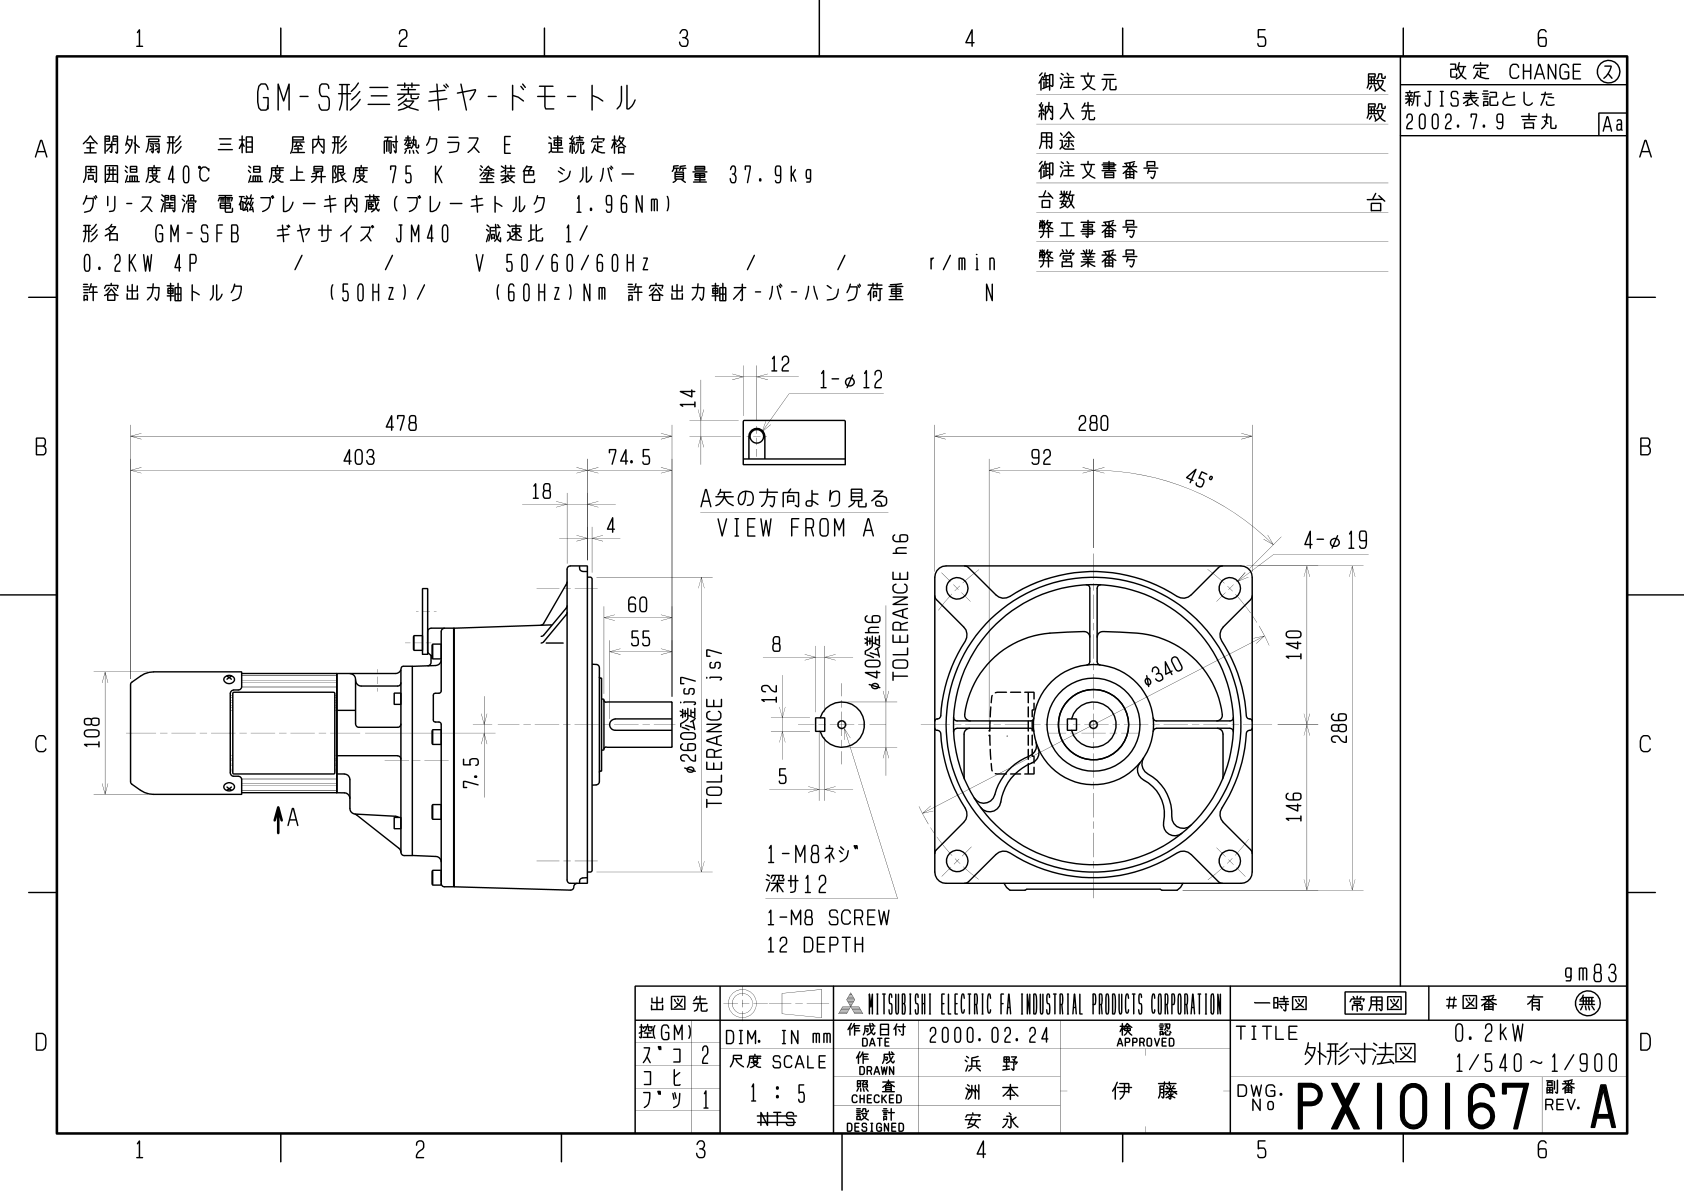GM_S_屋内＿三相_フランジ: (73, 329, 1397, 965)
